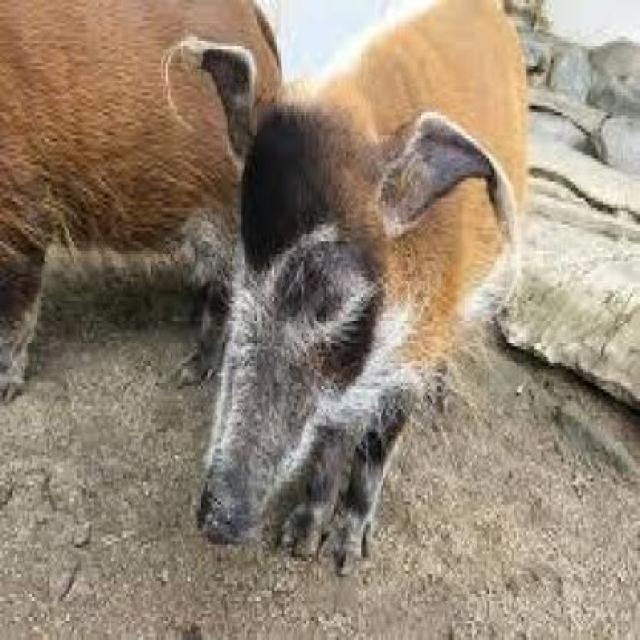wildboar: (151, 0, 537, 580), (0, 0, 317, 415)
